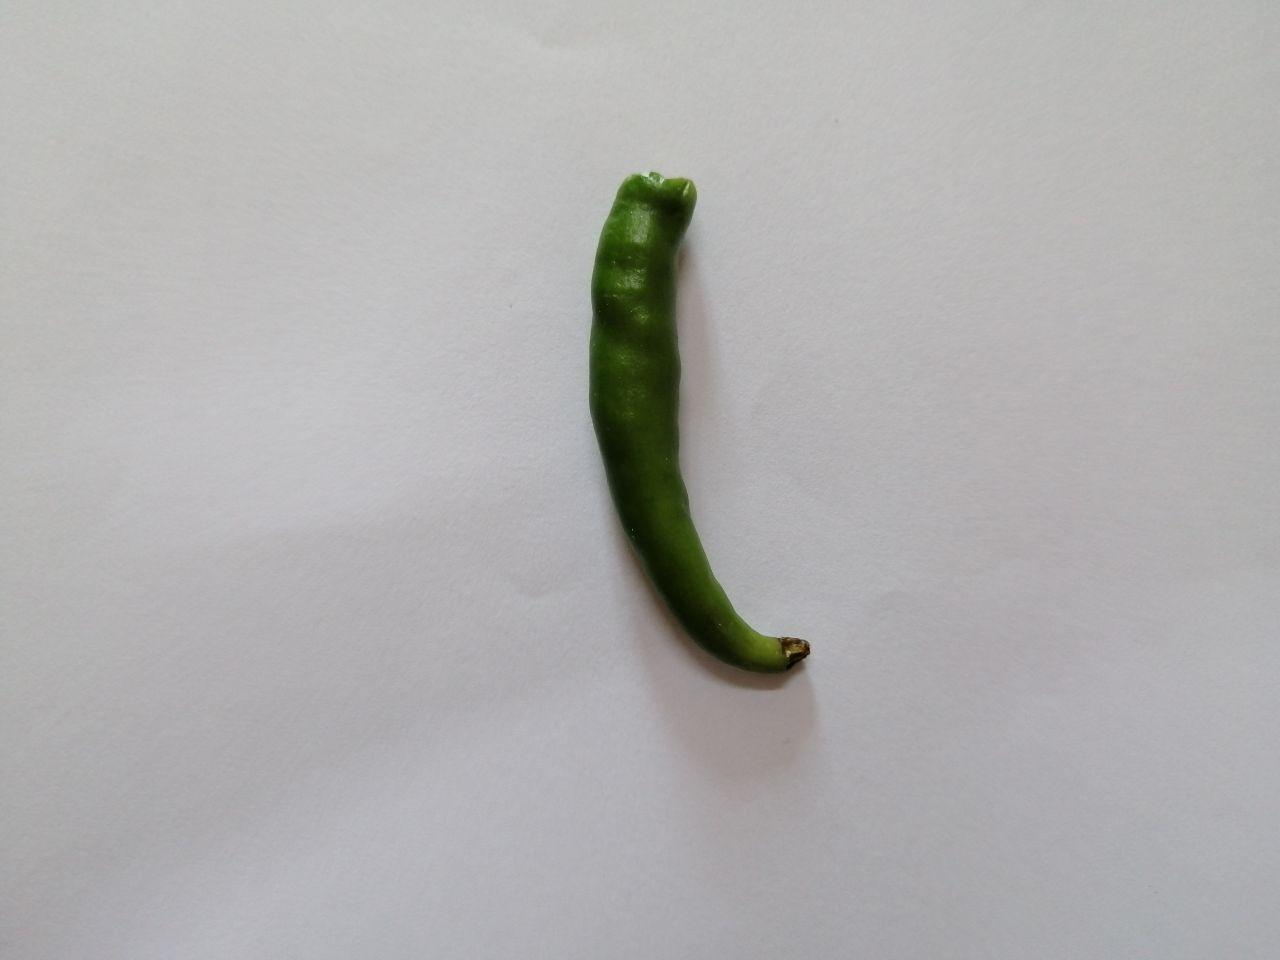lada hijau: (572, 144, 850, 706)
